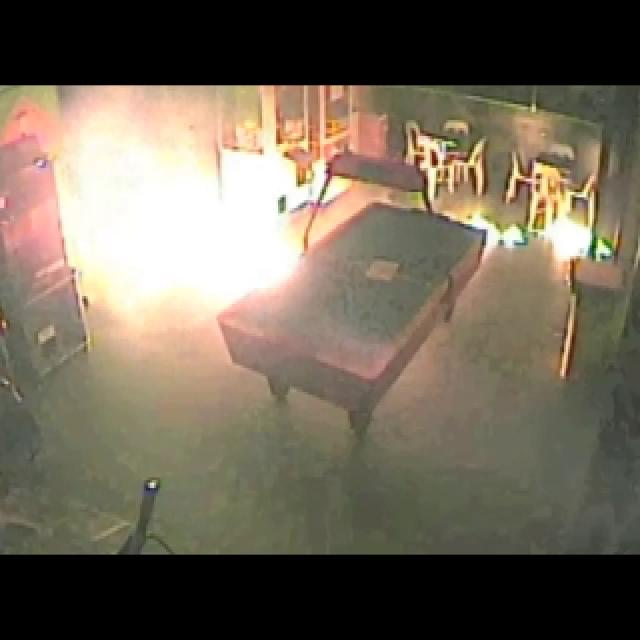arson: (11, 92, 630, 381)
